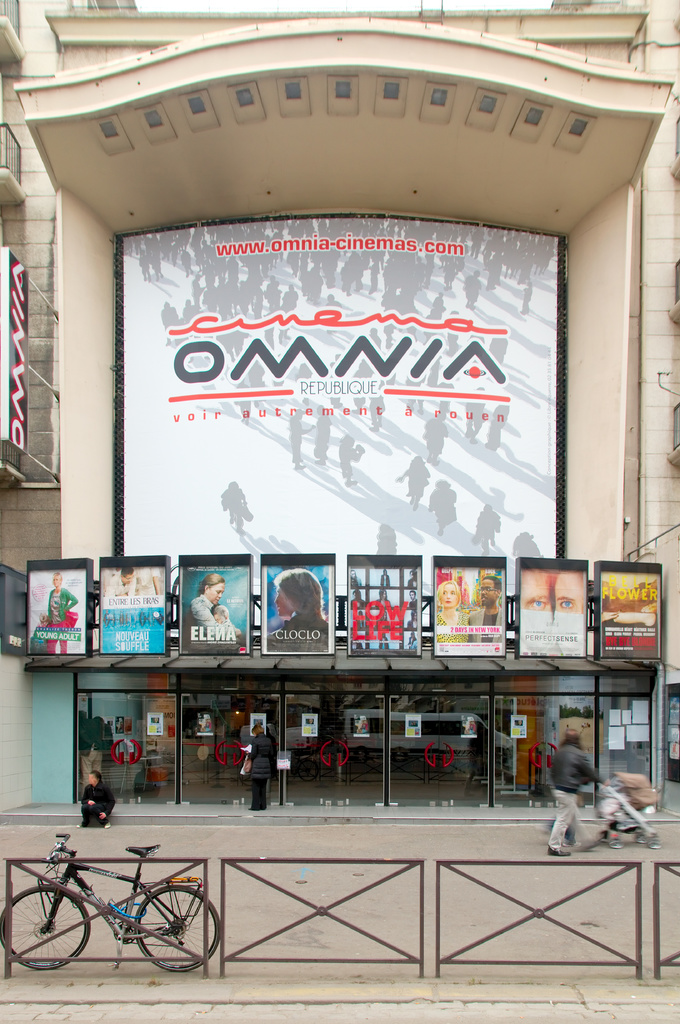Wheel: (130, 888, 222, 975), (0, 888, 91, 975)
